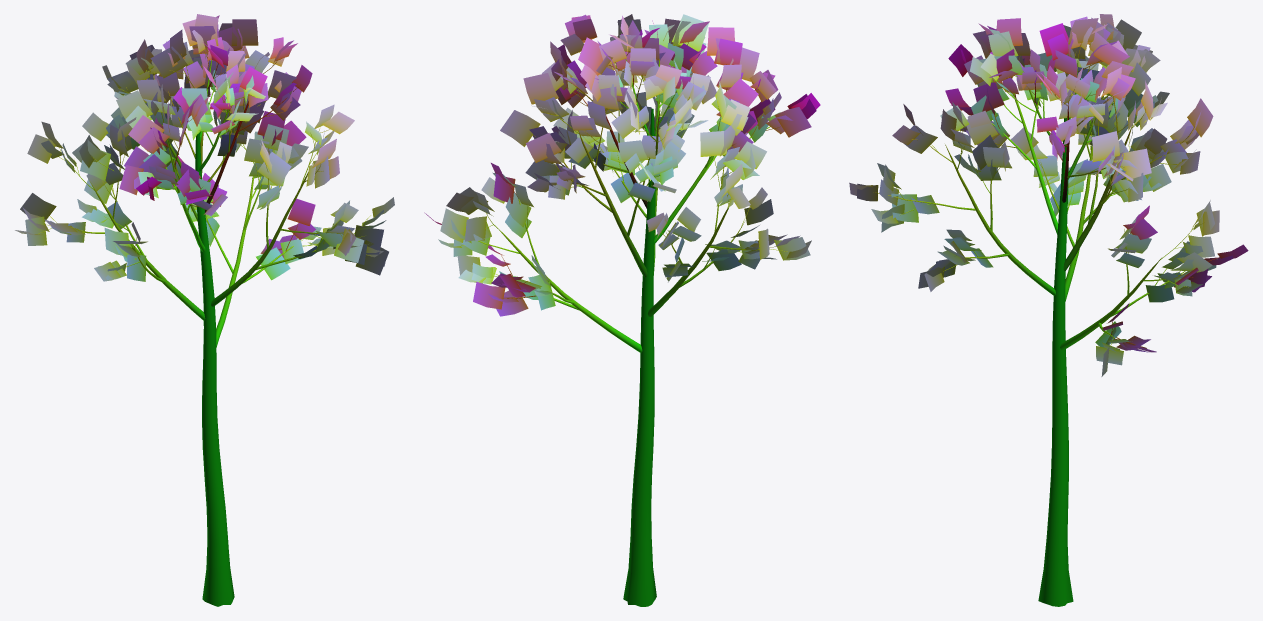
The model's file is fraxinus_angustifolia.glb.
3 views of the same model, side by side, from view 1: azimuth 30°, elevation 25°; view 2: azimuth 150°, elevation 25°; view 3: azimuth 270°, elevation 25° (orthographic). The views are drawn at different scales.
Visible parts, largest first — view 1: fraxinus_angustifolia_lod0; view 2: fraxinus_angustifolia_lod0; view 3: fraxinus_angustifolia_lod0.
Part boxes in pixels (x1=…): fraxinus_angustifolia_lod0: x1=15, y1=14, x2=394, y2=606; fraxinus_angustifolia_lod0: x1=424, y1=14, x2=820, y2=606; fraxinus_angustifolia_lod0: x1=849, y1=14, x2=1248, y2=606.
Size of what is drawn, in the model's own units: 10.35 by 16.78 by 10.4.
